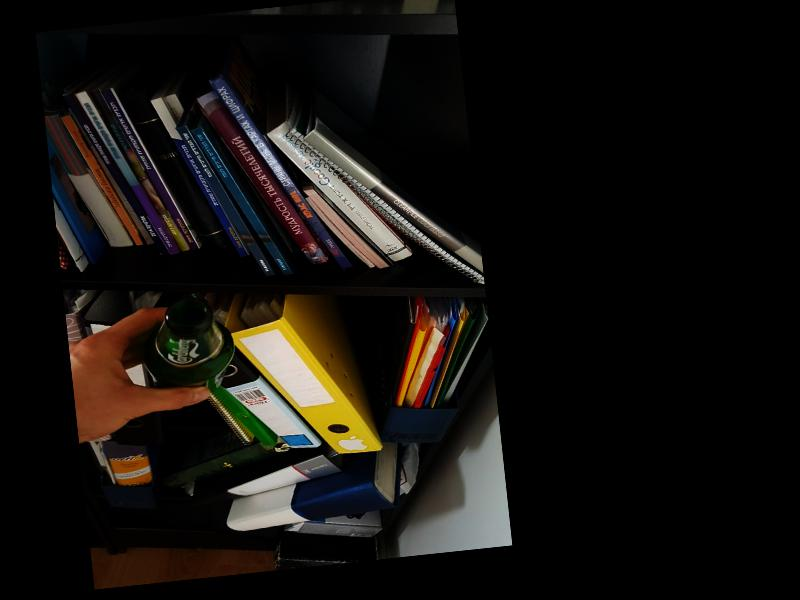Beer: (141, 296, 238, 399)
